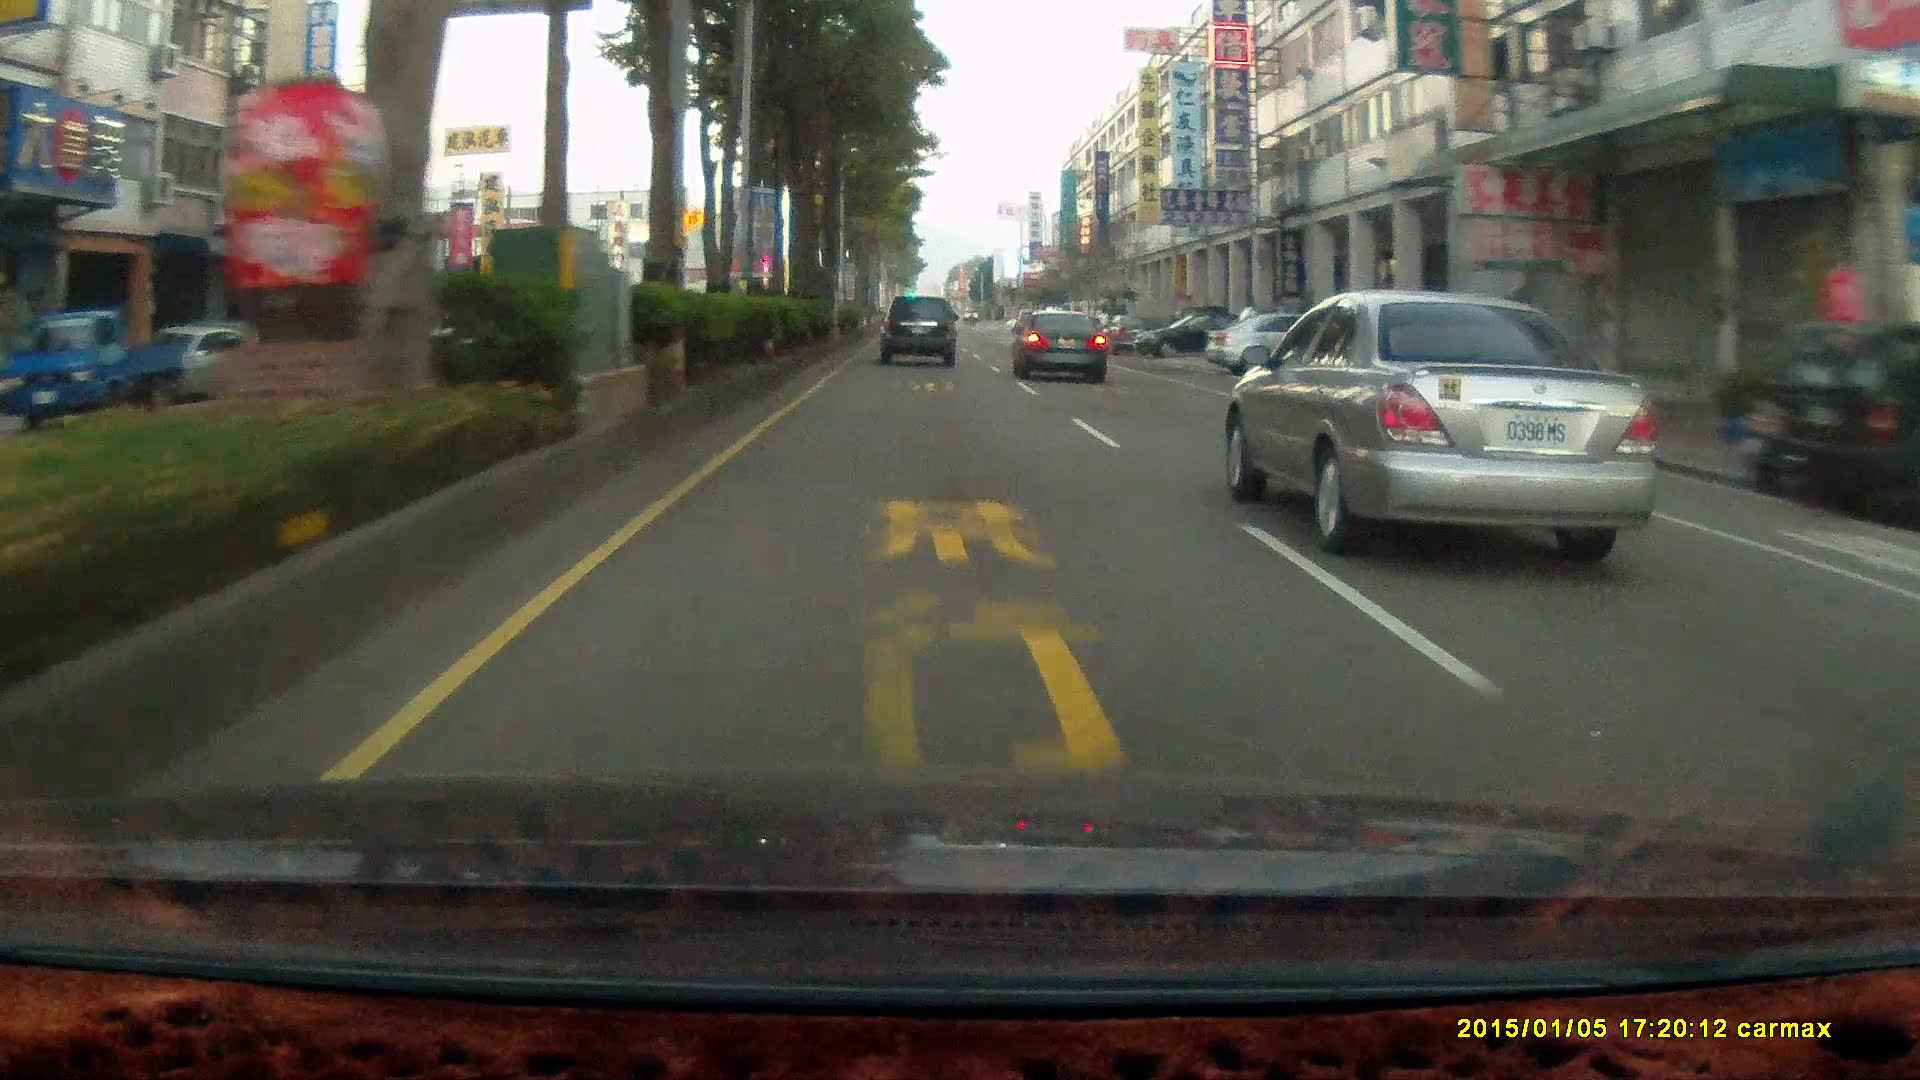vehicle: (1226, 286, 1683, 555), (1741, 313, 1920, 520), (1772, 314, 1919, 520), (0, 313, 182, 427), (1364, 314, 1534, 436), (36, 310, 178, 421), (1207, 309, 1379, 378), (116, 324, 270, 400), (1010, 306, 1109, 380), (1013, 306, 1112, 378), (878, 293, 960, 369), (1131, 307, 1255, 356), (877, 293, 957, 365)
